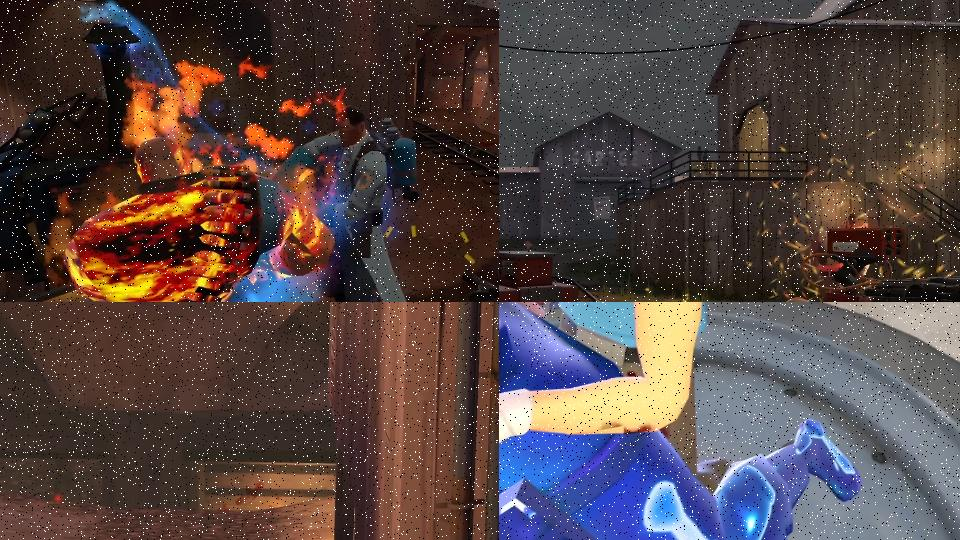Enemy: (64, 135, 337, 302), (271, 102, 420, 302)
